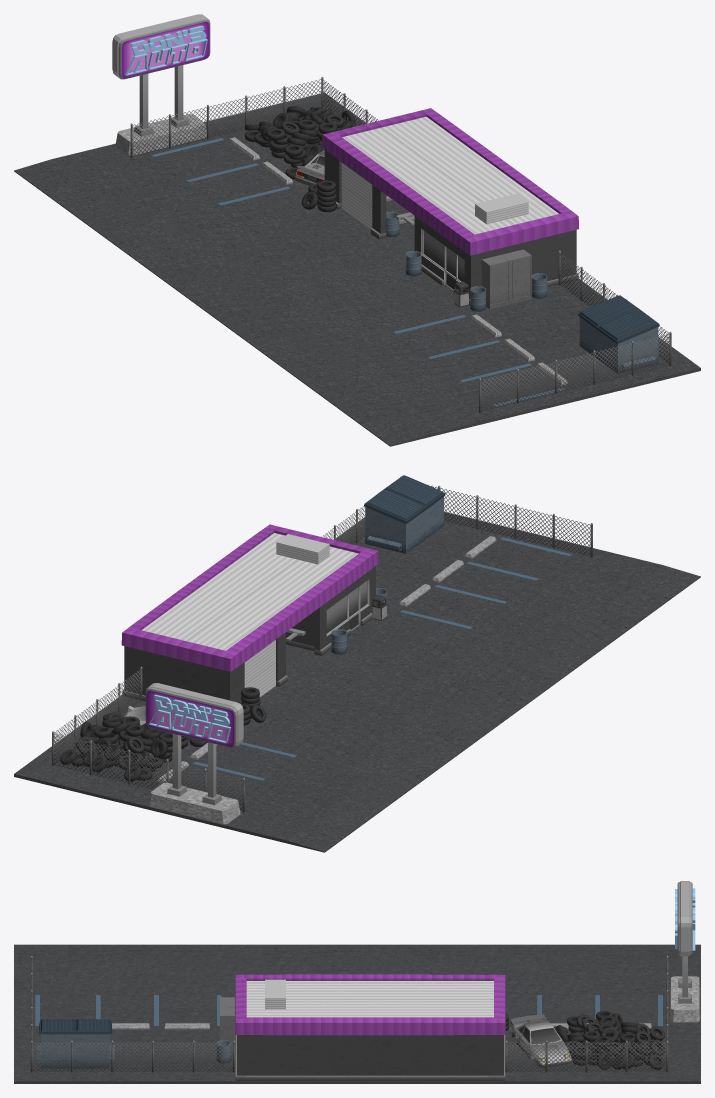
File: MIAMI_repairshop 1.FBX
3 views of the same model, one above another, from view 1: azimuth 30°, elevation 25°; view 2: azimuth 150°, elevation 25°; view 3: azimuth 270°, elevation 25° (orthographic). The views are drawn at different scales.
Parts seen in each view (by area): view 1: Box128, Box129, Cylinder077, Box131, Box132, Mesher001, Box134, body001; view 2: Box128, Box129, Cylinder077, Box131, Mesher001, Box132; view 3: Box128, Box129, Cylinder077, Mesher001, Box132, Box131, body001, Box134, Cylinder080.
Boxes of the visible parts, x1=… form: Box128: x1=14, y1=92, x2=700, y2=446; Box129: x1=322, y1=108, x2=578, y2=305; Cylinder077: x1=130, y1=77, x2=671, y2=412; Box131: x1=112, y1=14, x2=210, y2=155; Box132: x1=578, y1=295, x2=659, y2=373; Mesher001: x1=244, y1=106, x2=356, y2=179; Box134: x1=481, y1=249, x2=531, y2=309; body001: x1=295, y1=150, x2=324, y2=185; Box128: x1=14, y1=512, x2=700, y2=852; Box129: x1=121, y1=524, x2=378, y2=703; Cylinder077: x1=52, y1=476, x2=592, y2=812; Box131: x1=145, y1=683, x2=243, y2=824; Mesher001: x1=60, y1=711, x2=207, y2=781; Box132: x1=364, y1=475, x2=445, y2=553; Box128: x1=14, y1=944, x2=700, y2=1083; Box129: x1=235, y1=974, x2=505, y2=1080; Cylinder077: x1=30, y1=955, x2=668, y2=1072; Mesher001: x1=553, y1=1011, x2=664, y2=1069; Box132: x1=36, y1=1019, x2=114, y2=1068; Box131: x1=670, y1=881, x2=699, y2=1022; body001: x1=509, y1=1014, x2=571, y2=1067; Box134: x1=220, y1=997, x2=234, y2=1055; Cylinder080: x1=216, y1=1040, x2=231, y2=1063.
Bounding box in the file's own units: 668 × 243 × 1400.
